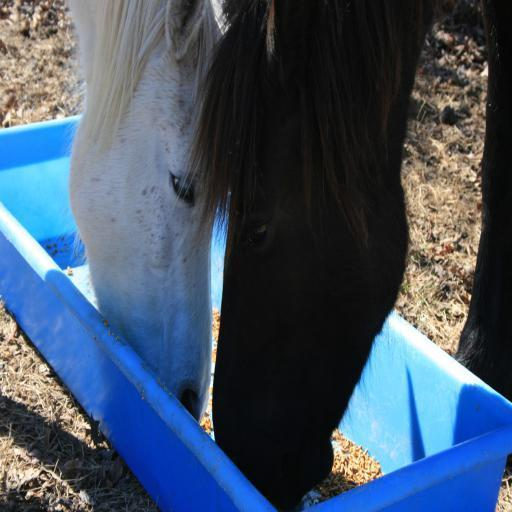horse: (184, 0, 512, 512), (67, 0, 231, 424)
